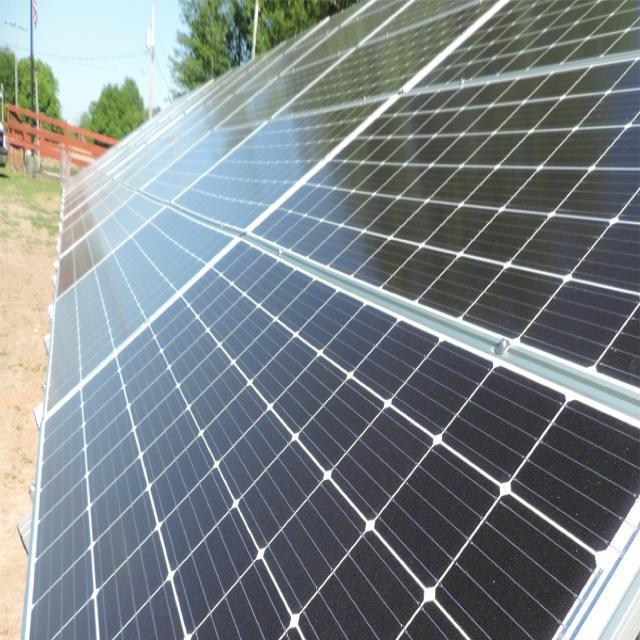Non Defective: (27, 241, 636, 638), (249, 57, 637, 390), (59, 25, 316, 248), (44, 205, 239, 415), (170, 94, 390, 238), (273, 0, 493, 114), (410, 0, 638, 81), (54, 186, 161, 301), (277, 0, 481, 57), (221, 47, 348, 124), (145, 122, 262, 205)
